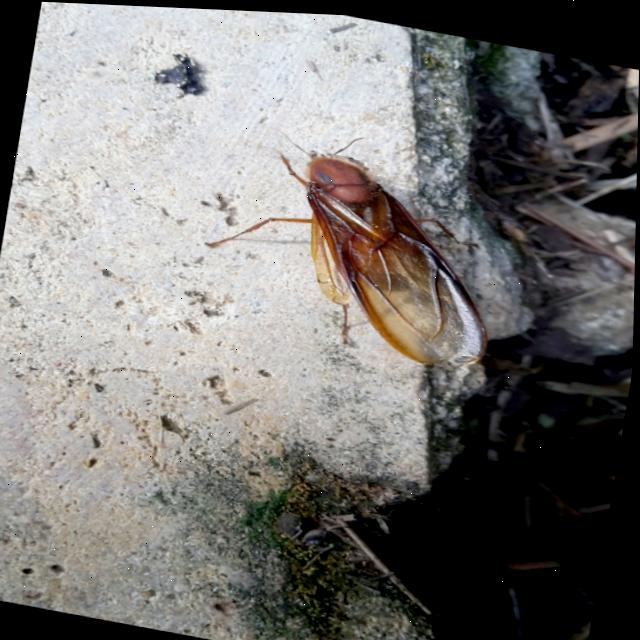Alive-Male-Alate: (191, 107, 519, 373)
